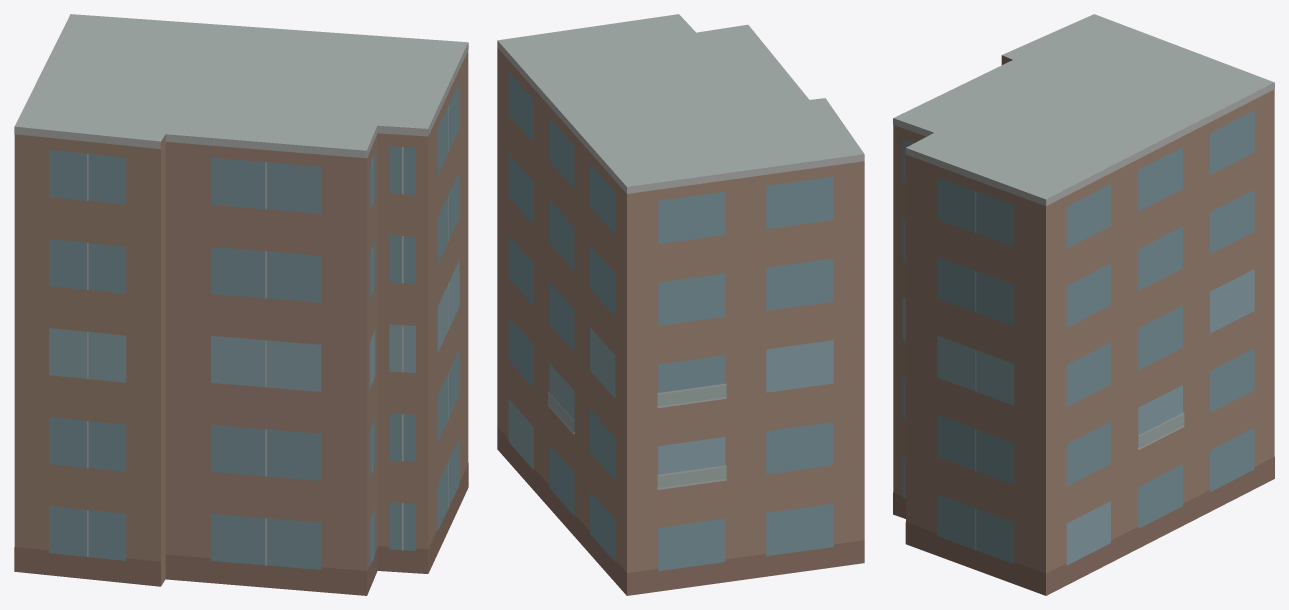
Rendered from survey-upis-32720294.glb.
The picture shows the model from 3 angles, left to right: view 1: azimuth 30°, elevation 25°; view 2: azimuth 150°, elevation 25°; view 3: azimuth 270°, elevation 25°; orthographic projection. The views are drawn at different scales.
Visible parts, largest first — view 1: survey-upis-32720294.tmp; view 2: survey-upis-32720294.tmp; view 3: survey-upis-32720294.tmp.
Boxes of the visible parts, x1=… form: survey-upis-32720294.tmp: x1=14, y1=14, x2=468, y2=595; survey-upis-32720294.tmp: x1=497, y1=14, x2=864, y2=595; survey-upis-32720294.tmp: x1=893, y1=14, x2=1274, y2=595.
Bounding box in the file's own units: 14.36 × 14.3 × 12.48.
